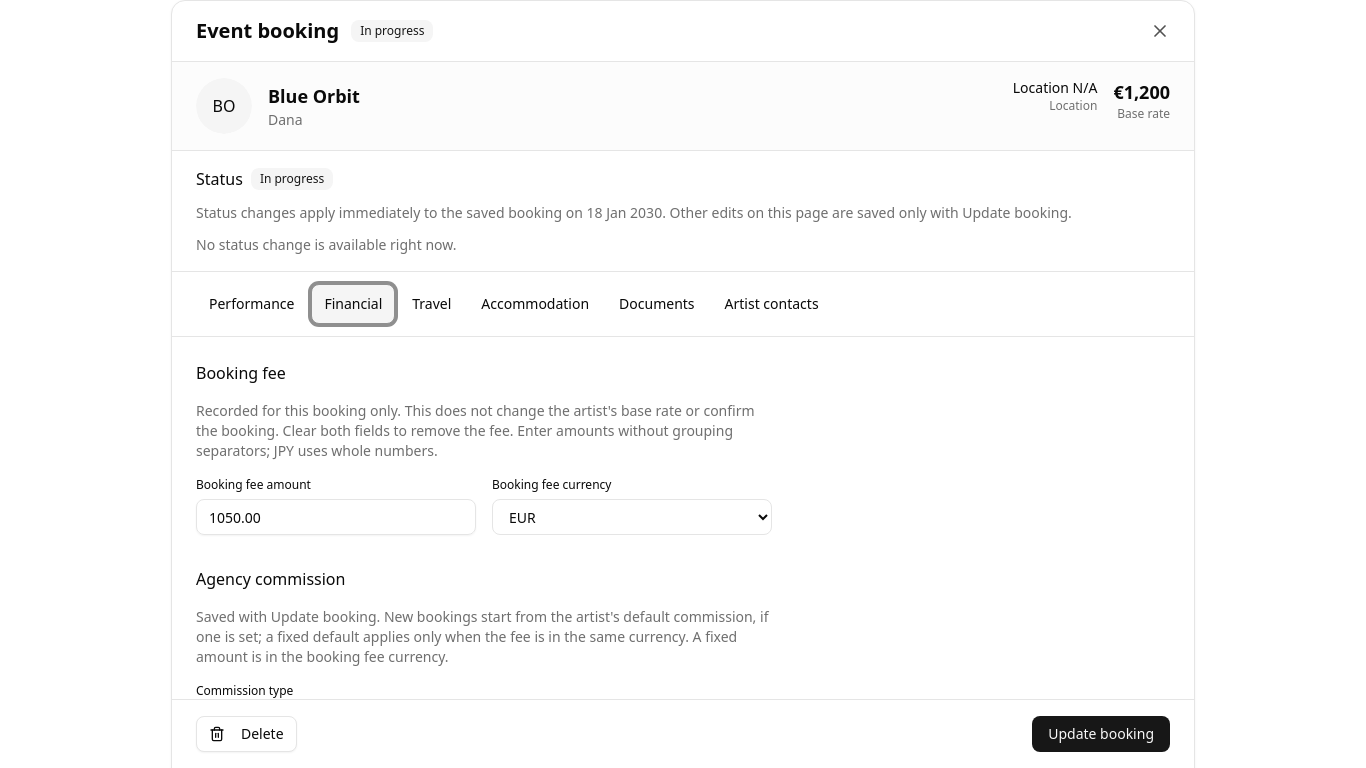
Test: targets only the missing field for amount 1050 and currency
Replace the text in the field labelled "Booking fee amount" with "1050" at (336,517), box [196,499,476,535]
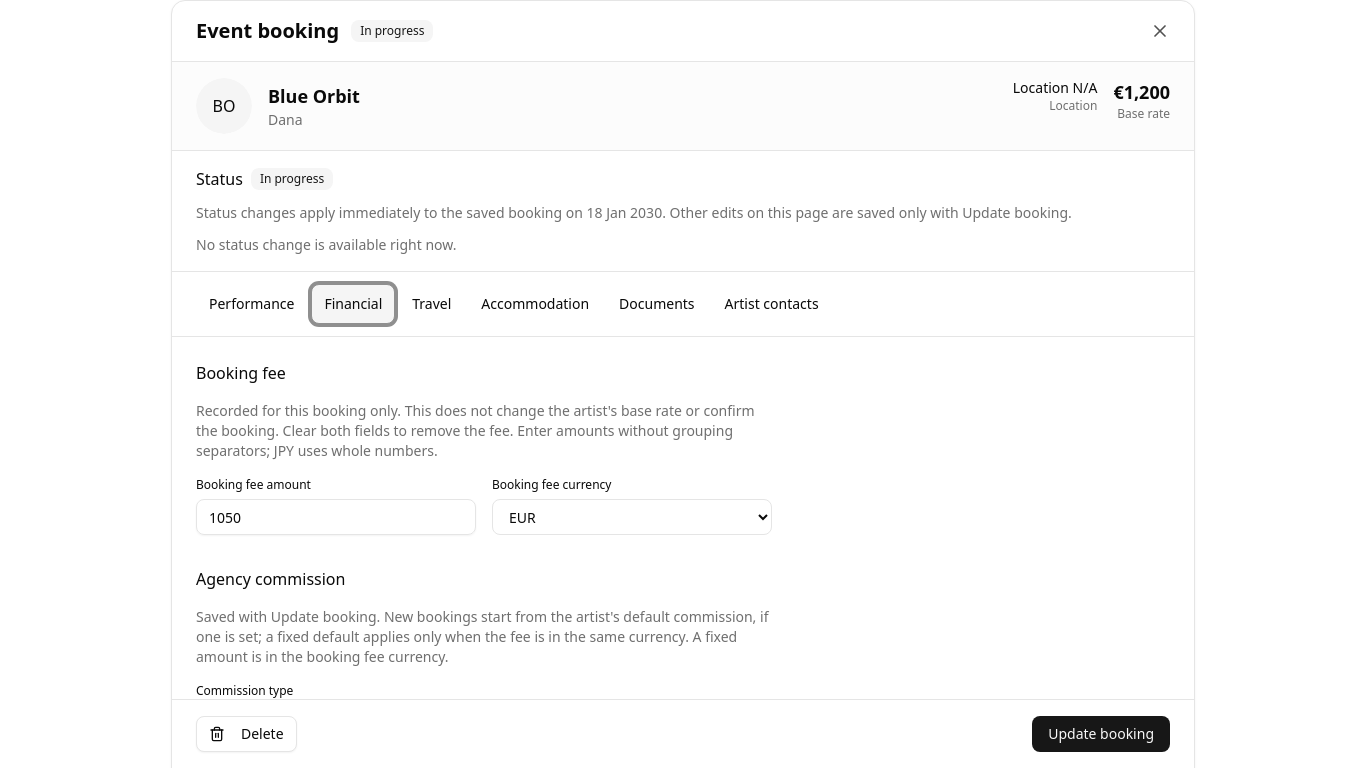
Select "Not specified" in the dropdown labelled "Booking fee currency" at (632,517), box [492,499,772,535]
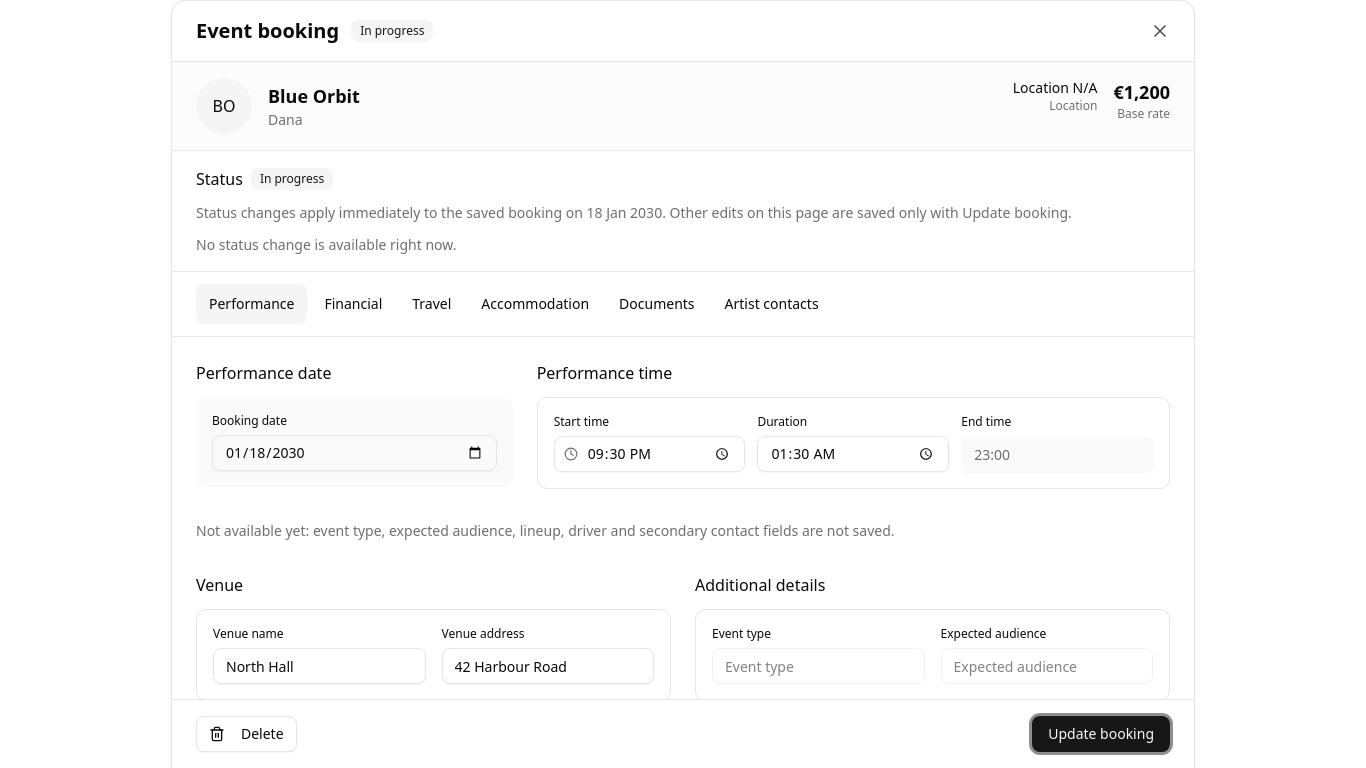
Click the button "Update booking" at (1101,734), box [1032,716,1170,752]
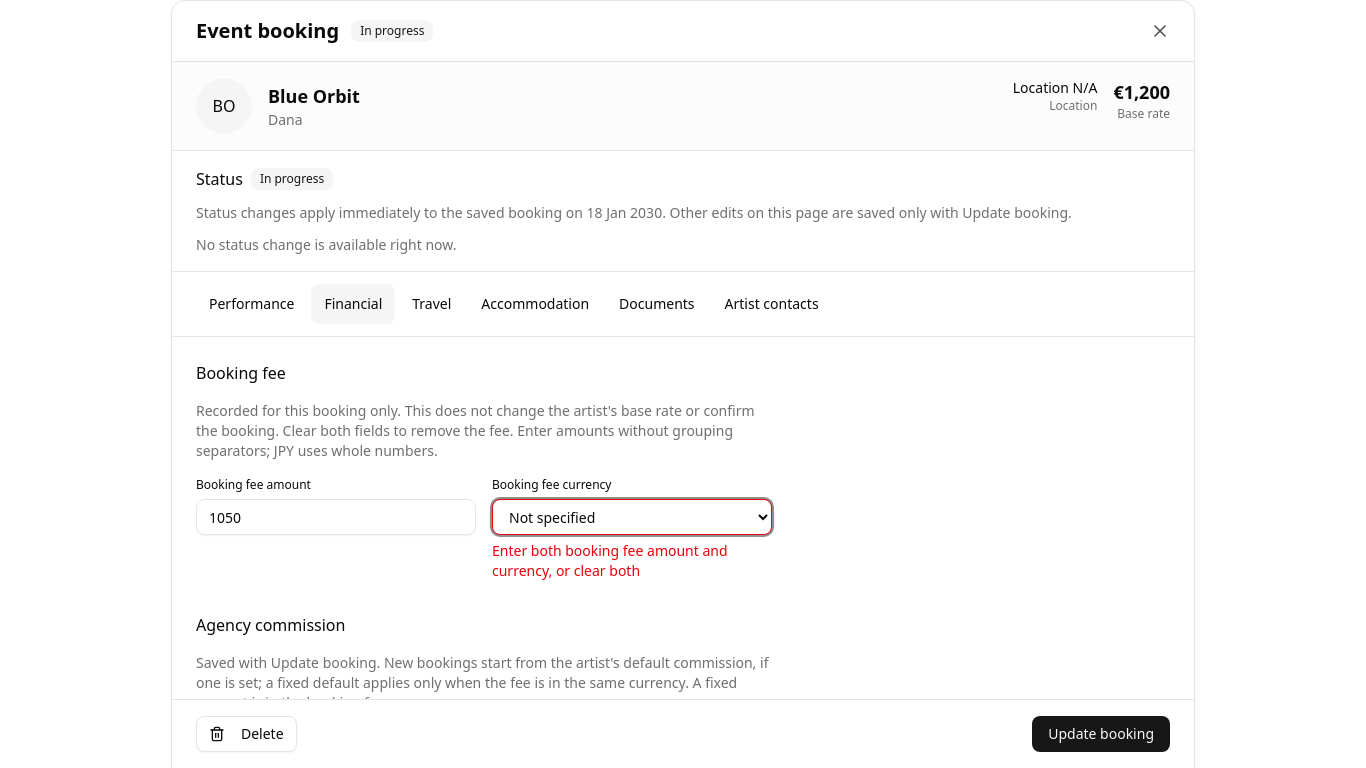
Now the dropdown labelled "Booking fee currency" is marked as invalid, box [492,499,772,535]
